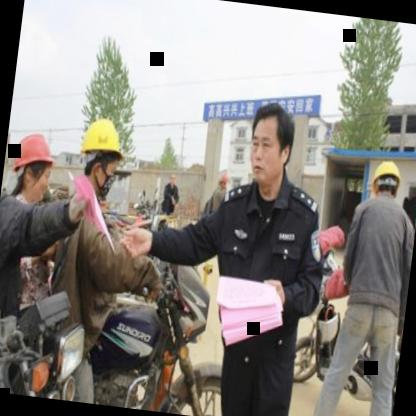helmet: (72, 110, 133, 194), (4, 122, 62, 210), (364, 157, 405, 212)
